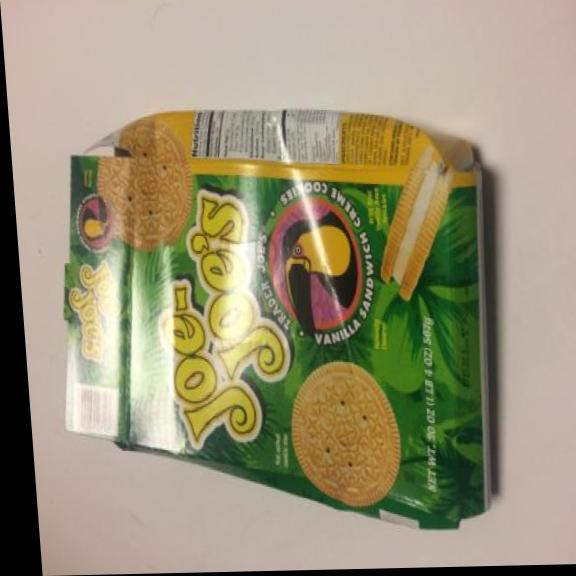Kertas: (45, 98, 521, 544)
